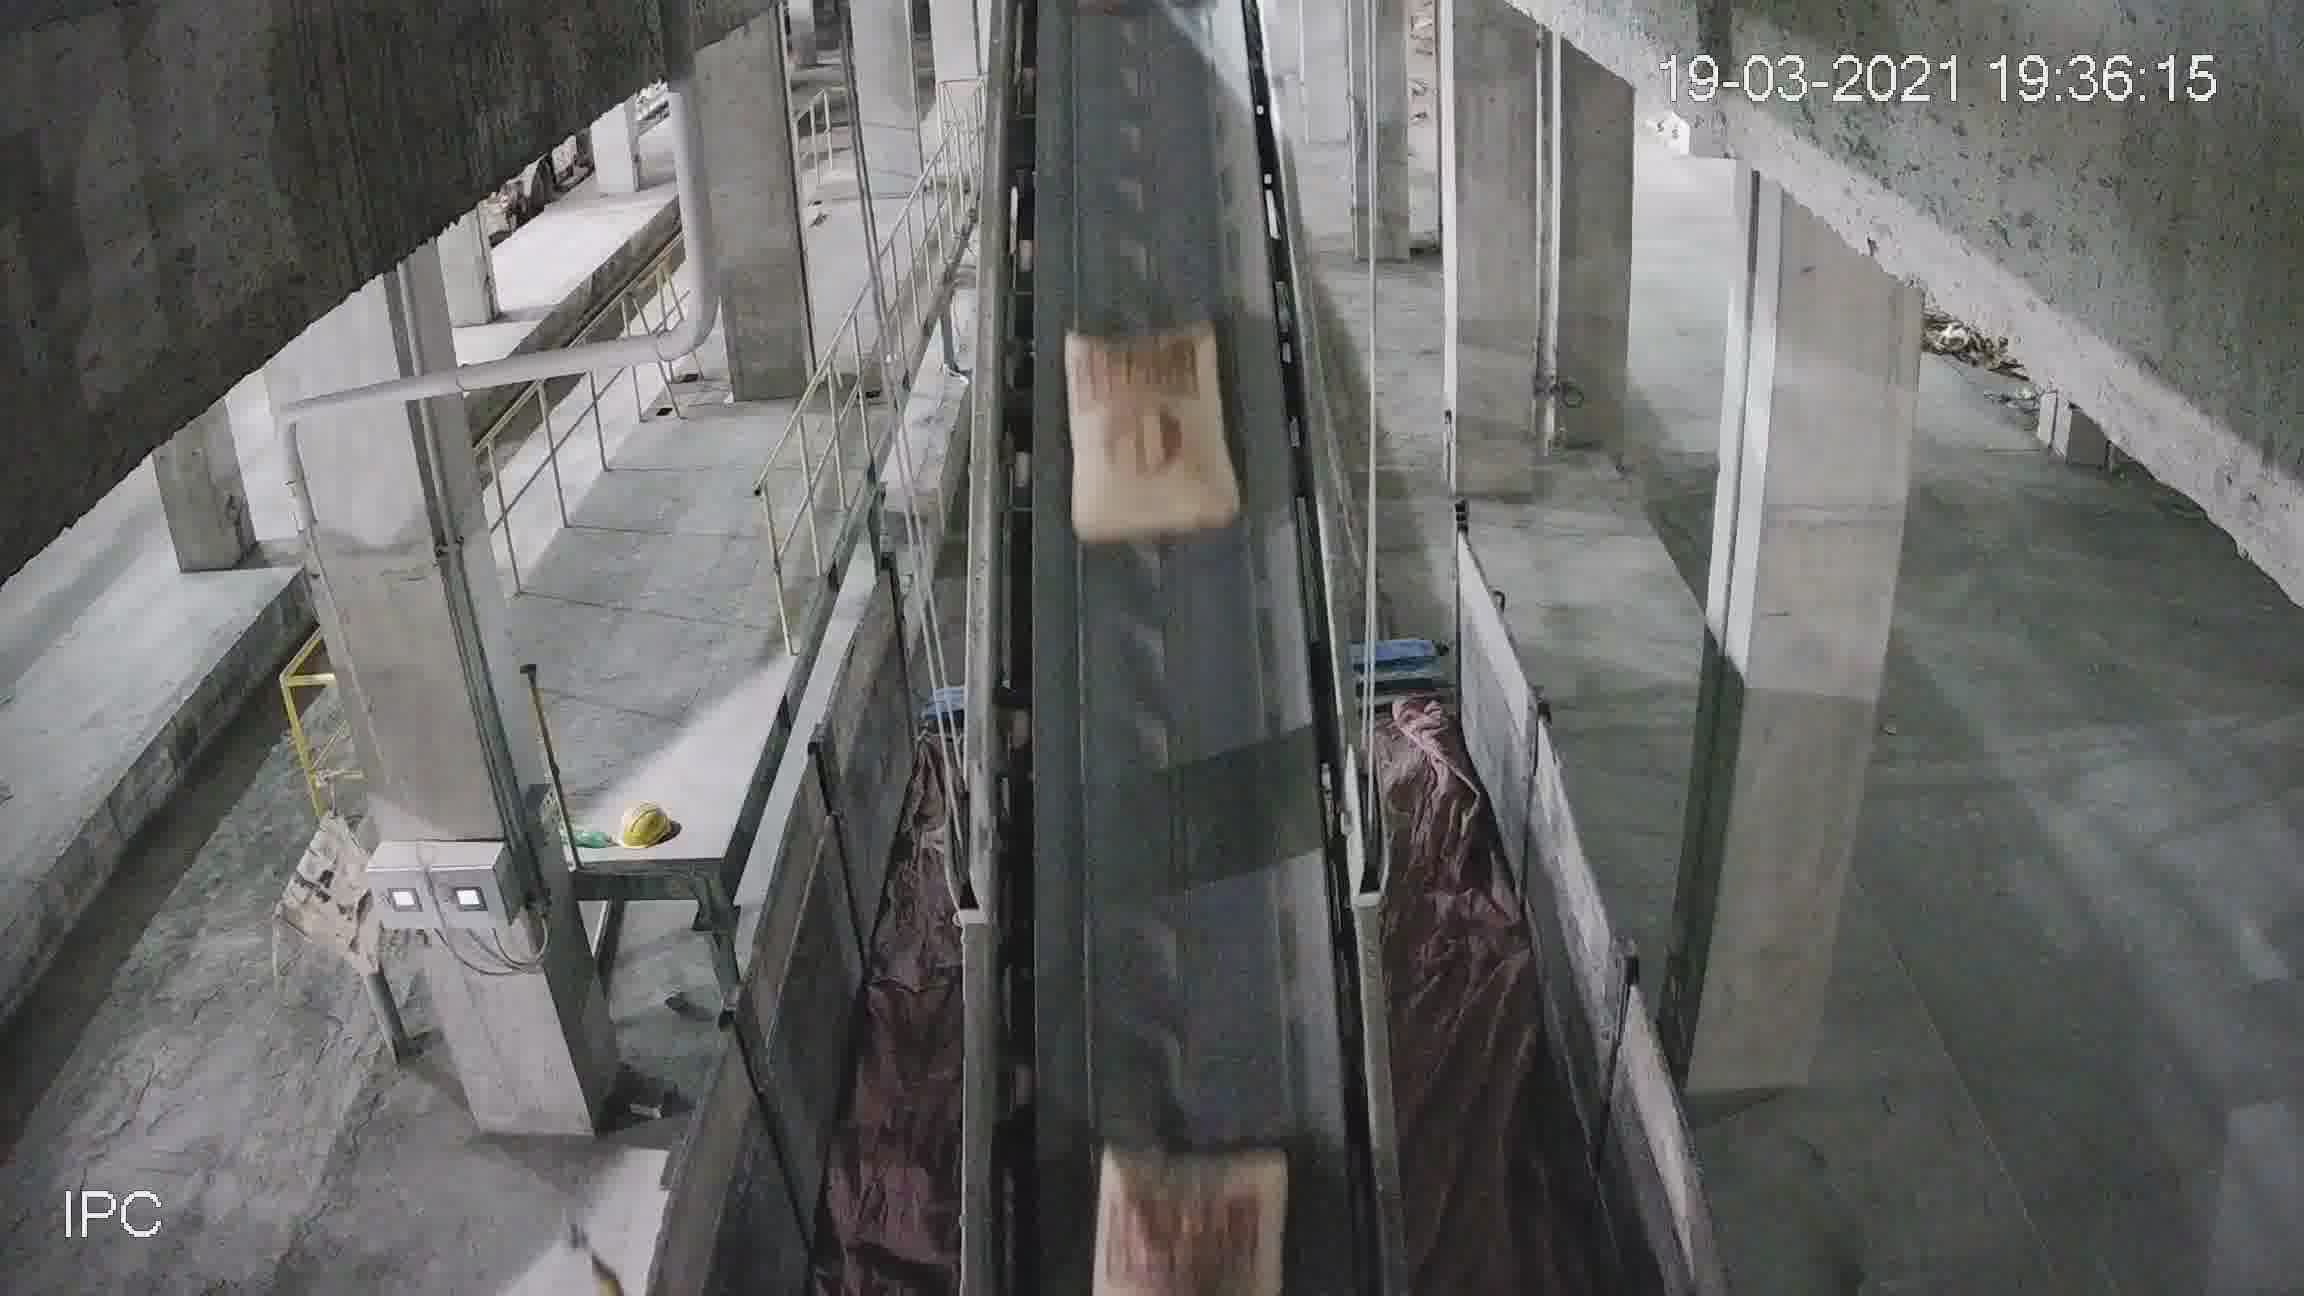bag: (1068, 331, 1228, 540), (1082, 1138, 1279, 1296)
belt: (962, 89, 1381, 1279)
